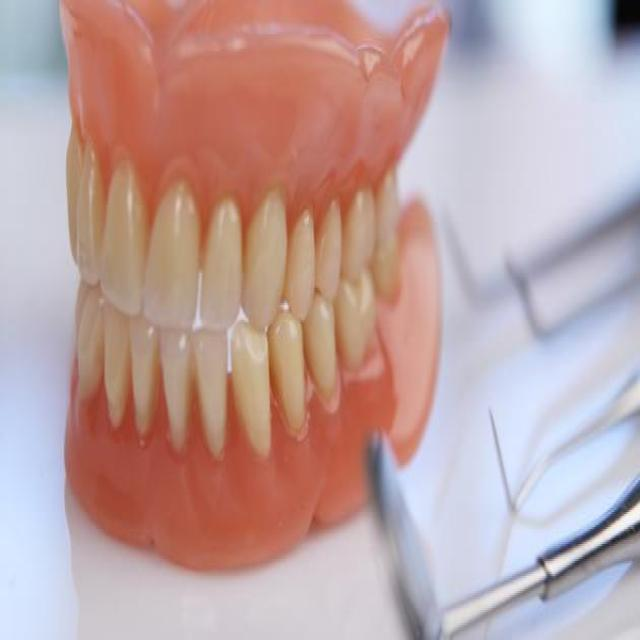tooth: (147, 173, 202, 318), (189, 324, 235, 459), (202, 192, 242, 331), (242, 192, 287, 309), (99, 177, 144, 288), (157, 322, 194, 448), (235, 328, 269, 458), (80, 292, 110, 416), (131, 309, 156, 450), (287, 212, 318, 310), (106, 309, 131, 410), (64, 121, 82, 254), (344, 204, 374, 282), (79, 156, 98, 277), (272, 324, 306, 384), (318, 211, 344, 284), (311, 344, 341, 376), (77, 277, 91, 303)
